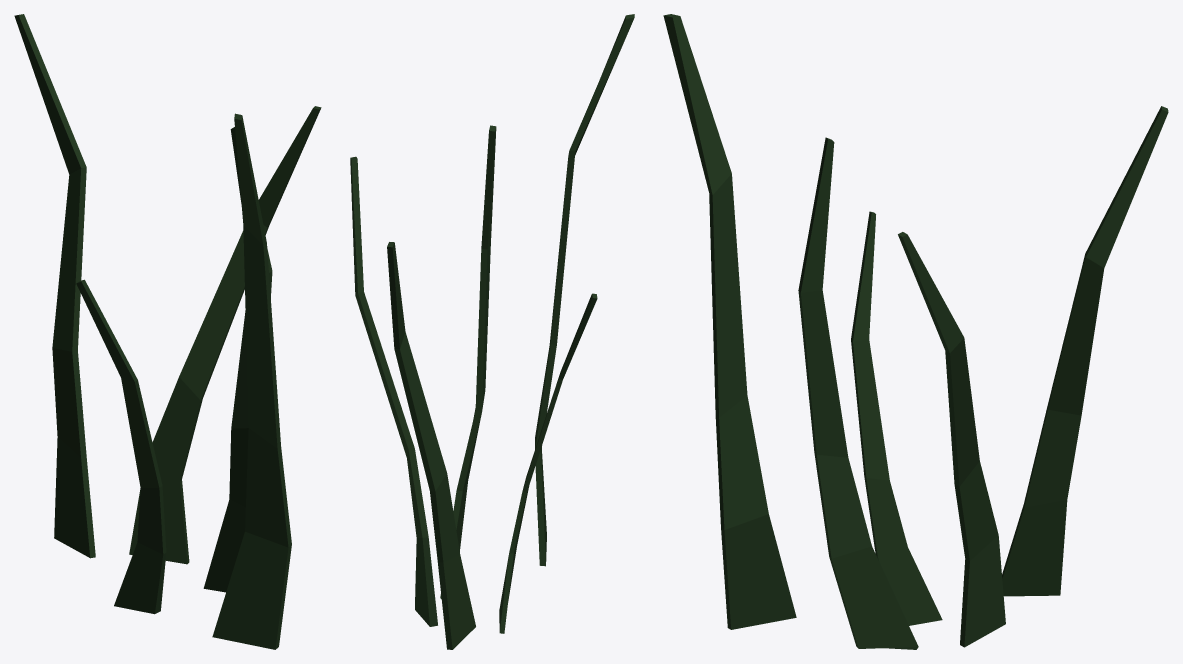
The model's file is grass.fbx.
3 views of the same model, side by side, from view 1: azimuth 30°, elevation 25°; view 2: azimuth 150°, elevation 25°; view 3: azimuth 270°, elevation 25° (orthographic). The views are drawn at different scales.
Parts seen in each view (by area): view 1: Plane; view 2: Plane; view 3: Plane.
Part boxes in pixels (box(x1,y1,x2,y2)): Plane: box(14, 14, 321, 649); Plane: box(350, 14, 634, 649); Plane: box(663, 14, 1168, 649).
Bounding box in the file's own units: 36.35 × 78.72 × 60.12.
